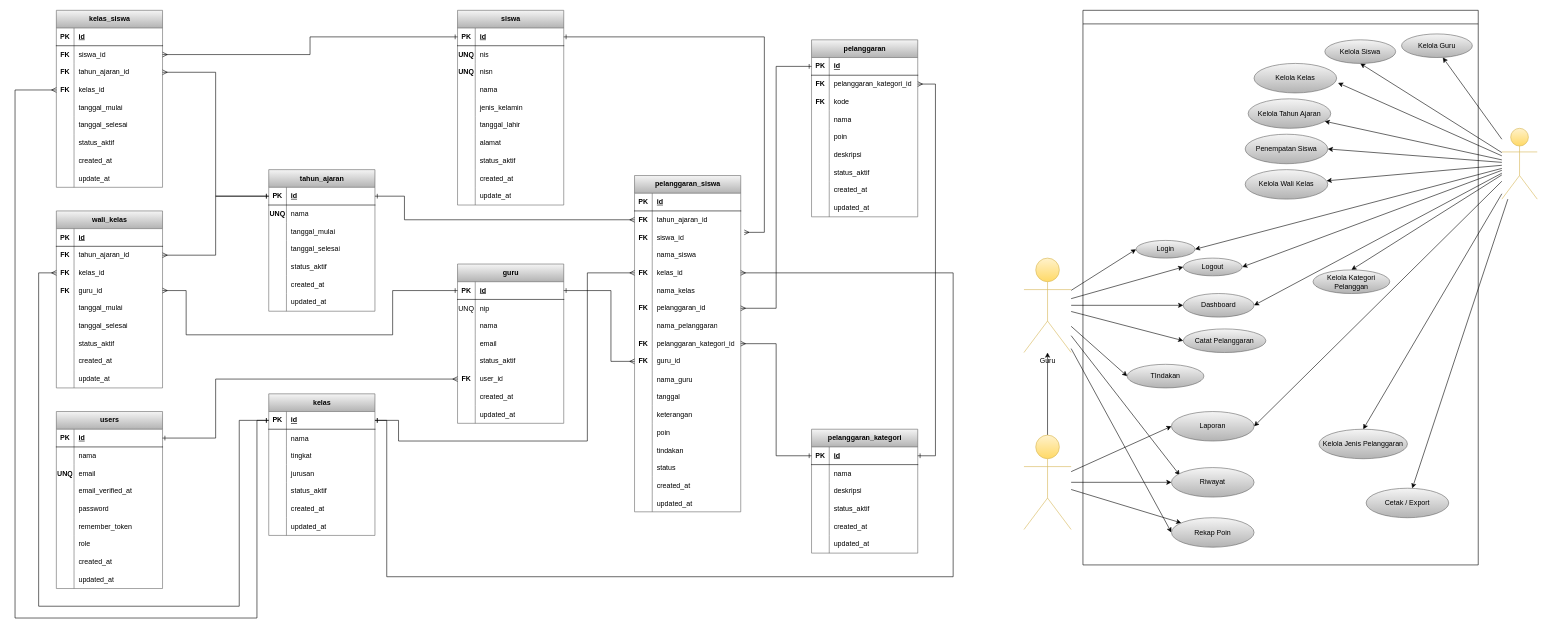
Some shapes in this 1548 by 634 pixel diagram are drawn without their labels. The centre of each missing label's shape, as x and y in pixels:
"Admin" belongs at (x=1519, y=163).
"Sistem Informasi Pelanggaran Siswa" belongs at (x=1280, y=287).
"Wali Kelas" belongs at (x=1047, y=482).
